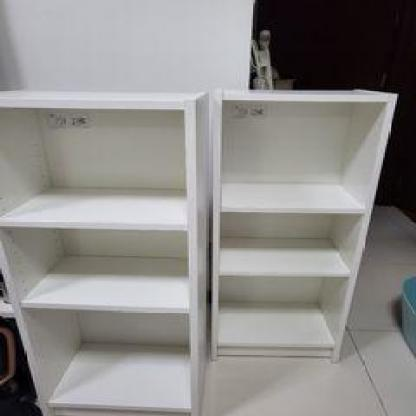lamp: (0, 88, 210, 415), (207, 87, 400, 365)
